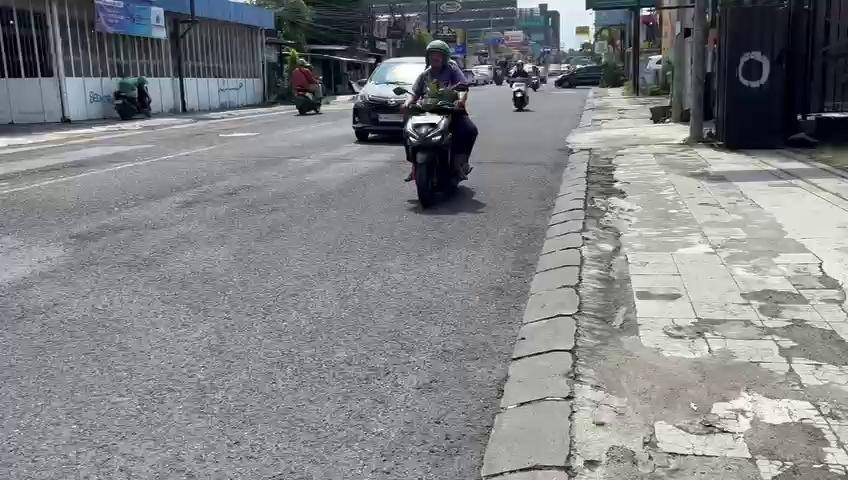helm: (421, 37, 453, 73)
riding: (391, 37, 481, 213)
